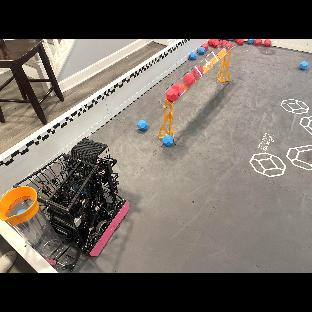V5_BLUE: (162, 133, 175, 147), (136, 120, 149, 132), (188, 52, 197, 60), (301, 61, 308, 71), (197, 48, 206, 54), (247, 39, 254, 45)
V5_RED: (264, 39, 270, 47), (201, 44, 210, 49), (213, 41, 220, 47), (208, 39, 215, 45), (255, 39, 261, 46), (220, 40, 226, 46), (239, 39, 245, 45), (228, 41, 233, 48), (236, 39, 238, 42)
redingoal: (182, 72, 196, 86), (191, 65, 205, 78), (166, 89, 178, 100), (173, 83, 184, 95)
